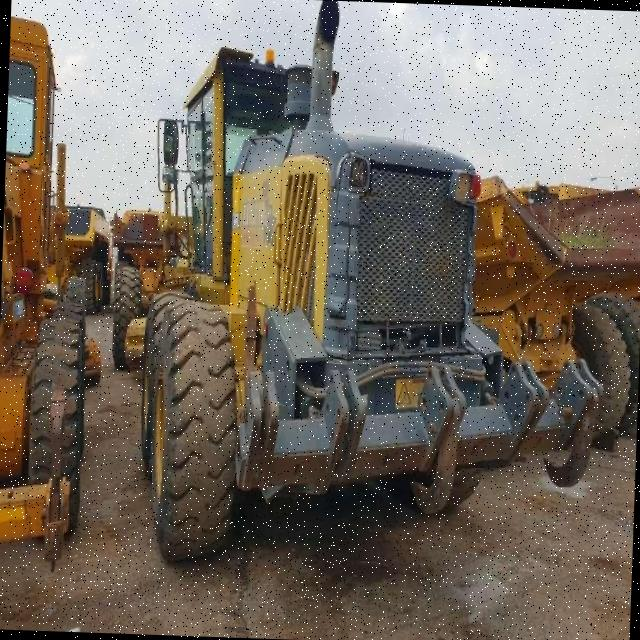Grader: (100, 0, 602, 575)
